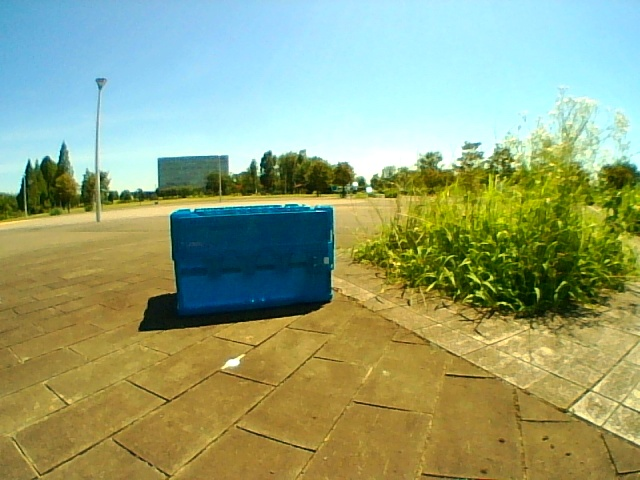blue_box: (177, 208, 331, 302)
